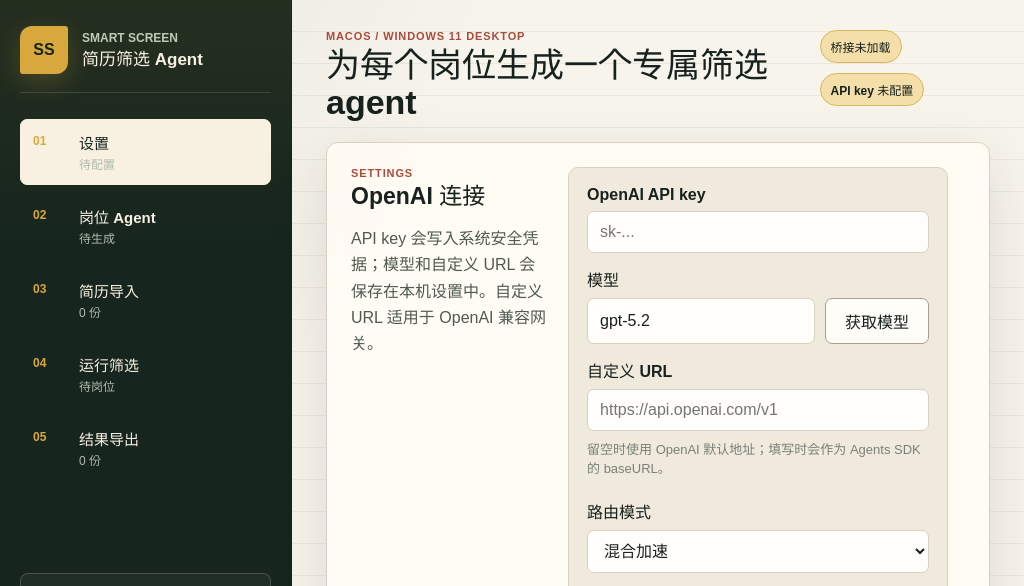
Test: App smoke flow › applies company job agent presets and keeps the config editable
Click the button "02 岗位 Agent 待生成": (146, 226) [20,193,271,259]
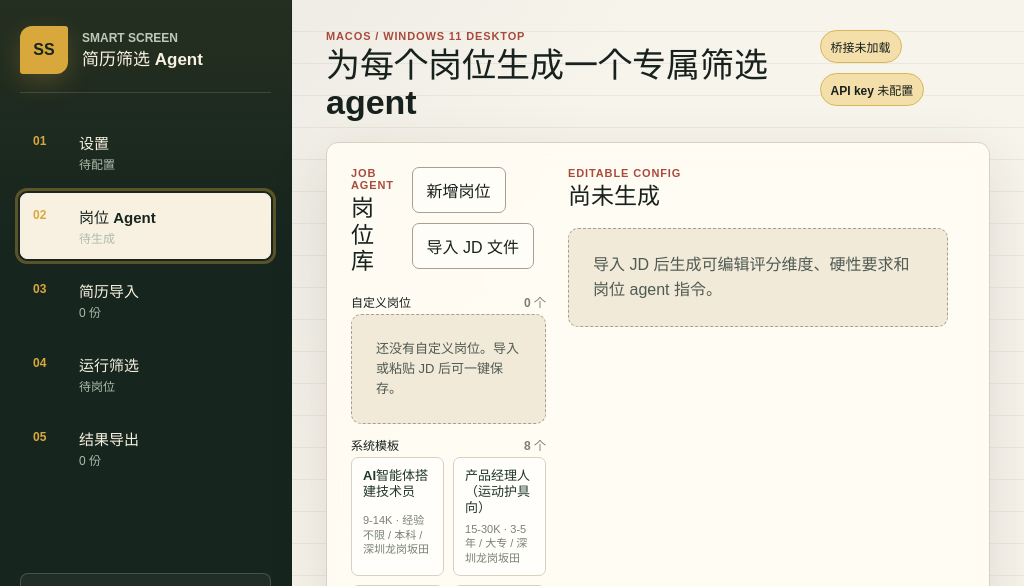
Click the button with aria-label "编辑 AI智能体搭建技术员": (398, 517) [351,457,444,576]
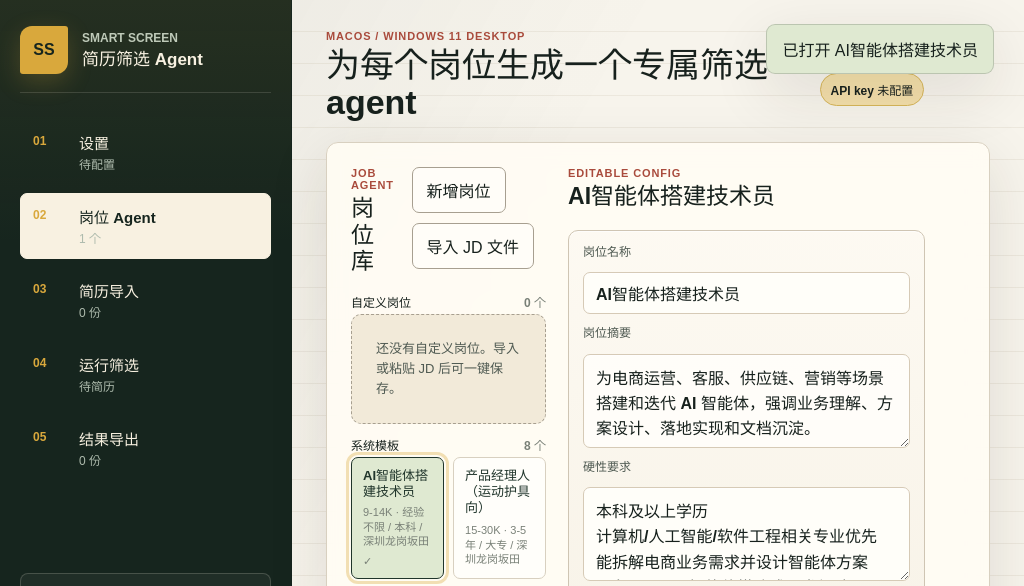
Now the field labelled "岗位名称" holds "AI智能体搭建技术员"
Clear the field labelled "岗位名称": (746, 293) [583,272,910,314]
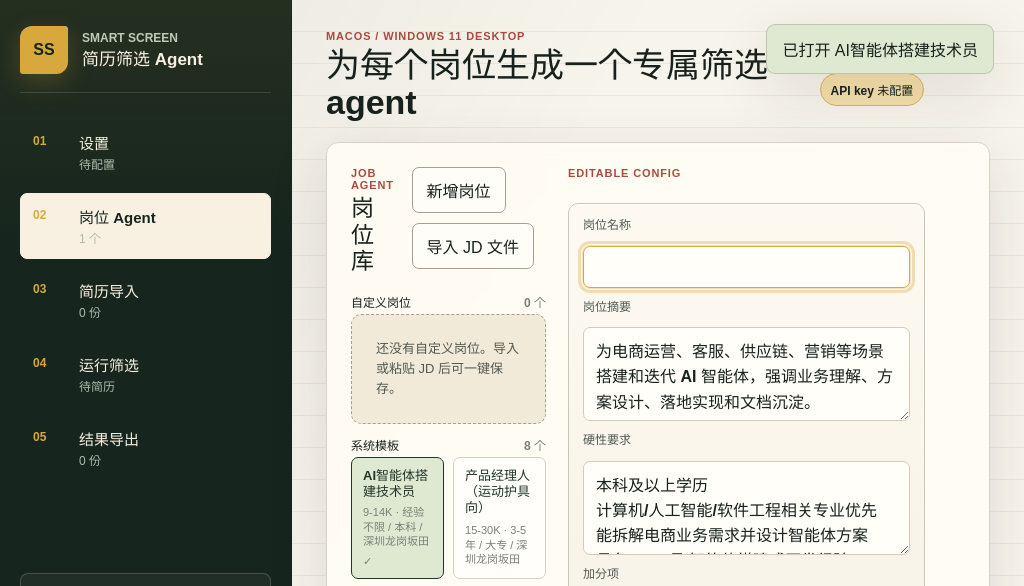
In the field labelled "岗位名称": (746, 267) [583,246,910,288], type "AI Agent 技术员"
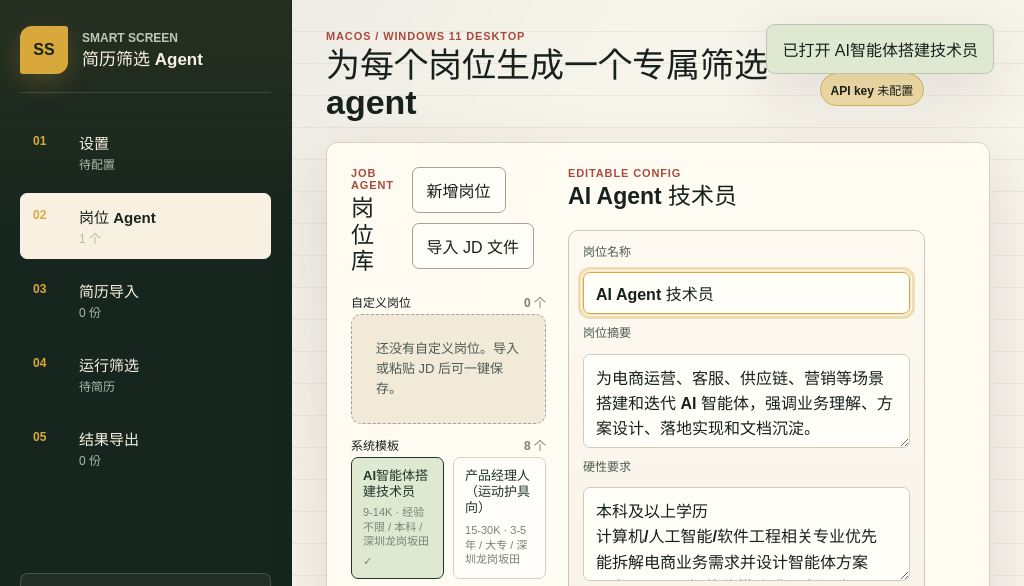
Now the heading "AI Agent 技术员" is shown, box [568,183,737,210]
